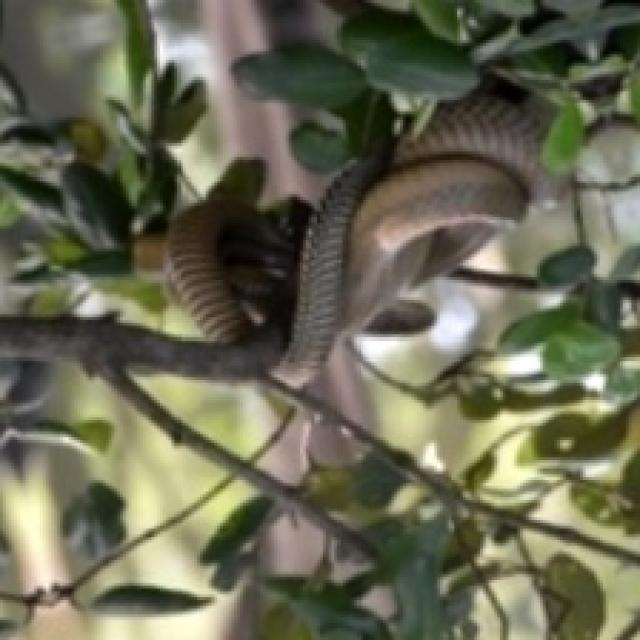king cobra: (169, 81, 545, 384)
